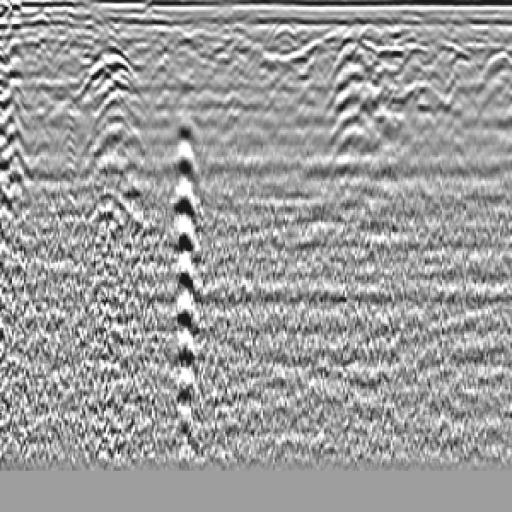metalic: (56, 35, 165, 178)
